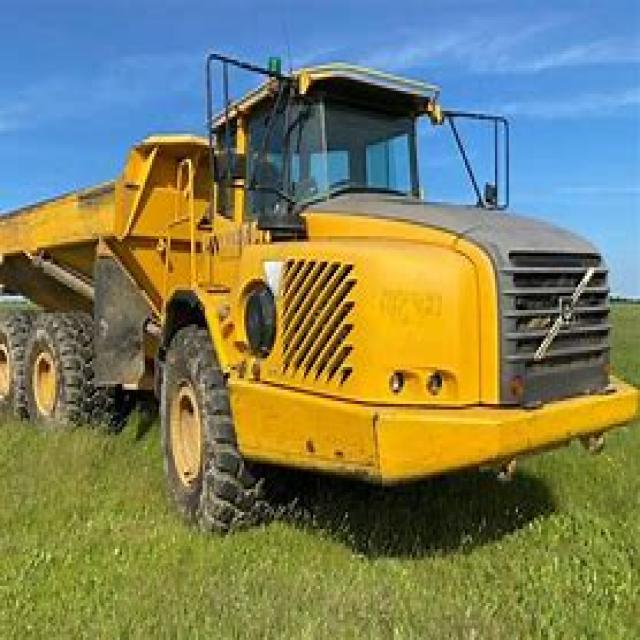dump_truck: (7, 34, 638, 546)
